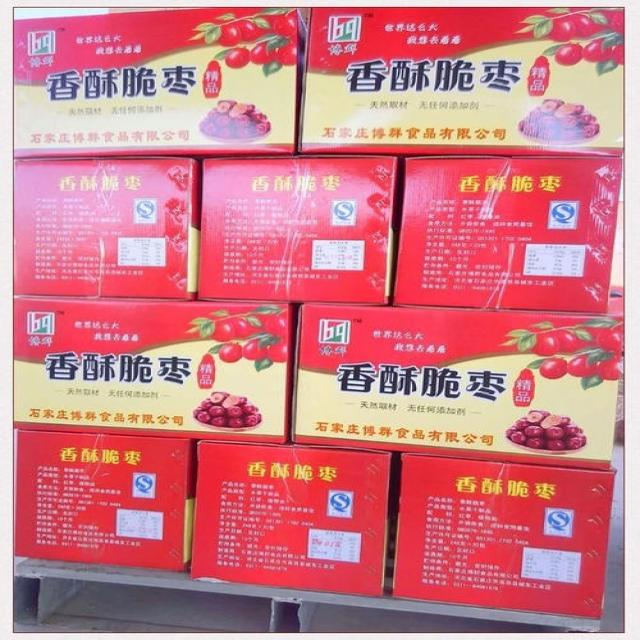box: (291, 304, 627, 471), (300, 6, 625, 157), (14, 7, 306, 159), (12, 298, 293, 444), (392, 453, 616, 620), (390, 158, 625, 315), (189, 441, 393, 598), (198, 155, 397, 307), (14, 158, 201, 302), (12, 430, 197, 571)
